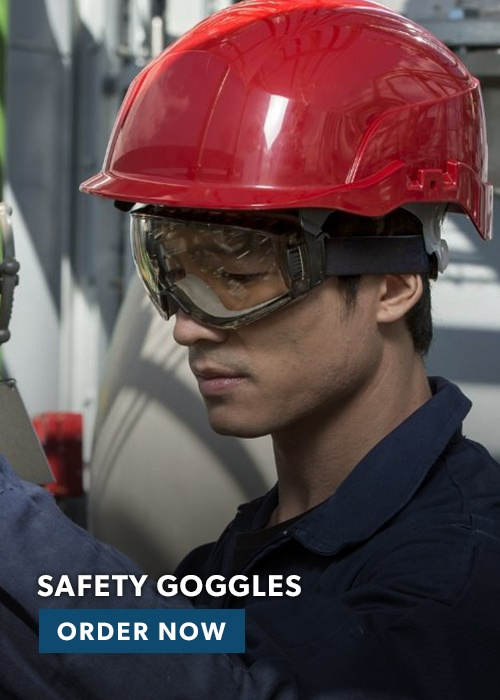safety_goggles: (59, 213, 458, 335)
